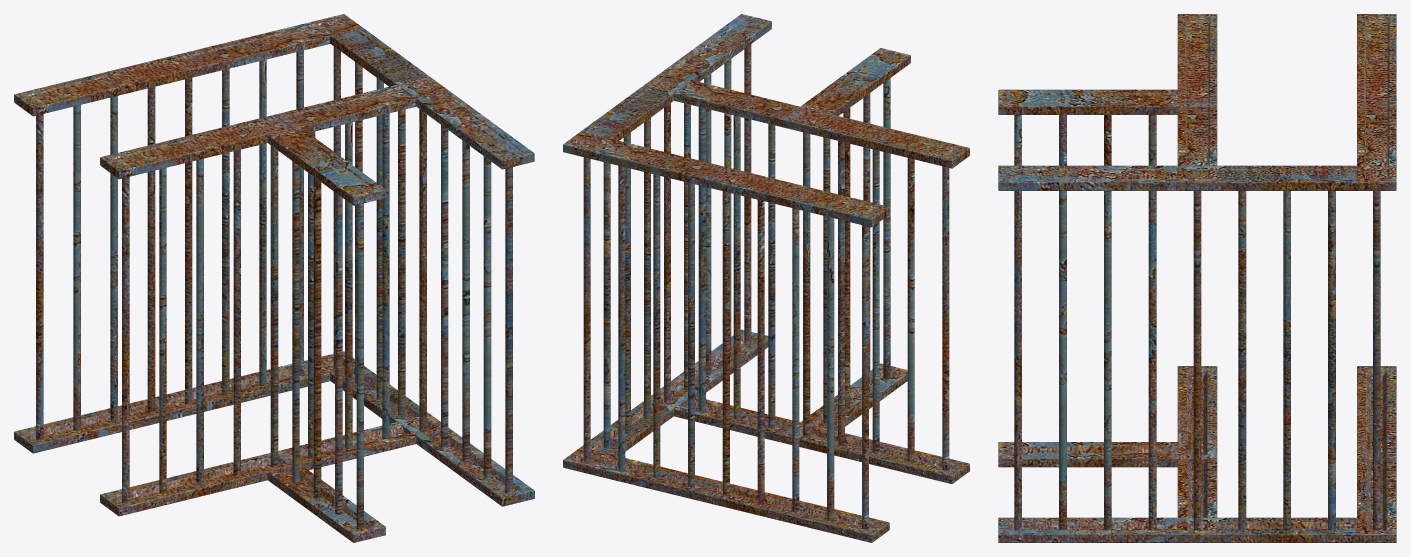
File: SteelBars.fbx
3 views of the same model, side by side, from view 1: azimuth 30°, elevation 25°; view 2: azimuth 150°, elevation 25°; view 3: azimuth 270°, elevation 25° (orthographic). The views are drawn at different scales.
Parts seen in each view (by area): view 1: CornerPolesMesh, CenterEdgePolesMesh, CenterCornerPolesMesh, EdgePolesMesh, CornerBarsMesh, CenterEdgeBarsMesh, EdgeBarsMesh, CenterCornerBarsMesh; view 2: CornerPolesMesh, CenterEdgePolesMesh, EdgePolesMesh, EdgeBarsMesh, CornerBarsMesh, CenterEdgeBarsMesh, CenterCornerPolesMesh, CenterCornerBarsMesh; view 3: CornerPolesMesh, CornerBarsMesh, EdgeBarsMesh, CenterEdgeBarsMesh, CenterCornerBarsMesh, CenterEdgePolesMesh, EdgePolesMesh, CenterCornerPolesMesh.
Part boxes in pixels (x1,y1,x2,y2): CornerPolesMesh: (36, 46, 512, 492); CenterEdgePolesMesh: (122, 110, 426, 502); CenterCornerPolesMesh: (122, 145, 363, 529); EdgePolesMesh: (36, 47, 340, 439); CornerBarsMesh: (14, 14, 534, 506); CenterEdgeBarsMesh: (100, 77, 447, 516); EdgeBarsMesh: (14, 14, 361, 453); CenterCornerBarsMesh: (100, 113, 385, 542); CornerPolesMesh: (583, 44, 868, 528); CenterEdgePolesMesh: (664, 105, 949, 471); EdgePolesMesh: (583, 169, 868, 530); EdgeBarsMesh: (563, 131, 889, 542); CornerBarsMesh: (563, 14, 889, 542); CenterEdgeBarsMesh: (645, 73, 969, 483); CenterCornerPolesMesh: (803, 78, 947, 461); CenterCornerBarsMesh: (783, 48, 969, 483); CornerPolesMesh: (1014, 191, 1380, 530); CornerBarsMesh: (998, 14, 1396, 542); EdgeBarsMesh: (1357, 14, 1396, 542); CenterEdgeBarsMesh: (1177, 14, 1217, 542); CenterCornerBarsMesh: (998, 14, 1217, 467); CenterEdgePolesMesh: (1193, 191, 1201, 530); EdgePolesMesh: (1373, 191, 1380, 530); CenterCornerPolesMesh: (1014, 115, 1156, 165).
Size of the model in its own units: 1 by 1 by 1.
